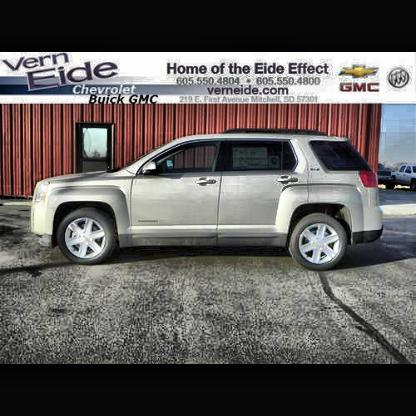GMC Terrain SUV 2012: (2, 54, 416, 365)
